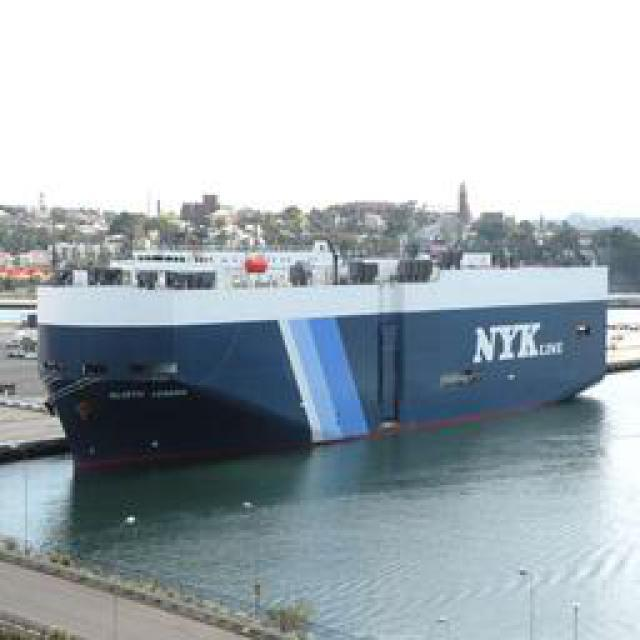Ship: (36, 236, 621, 464)
